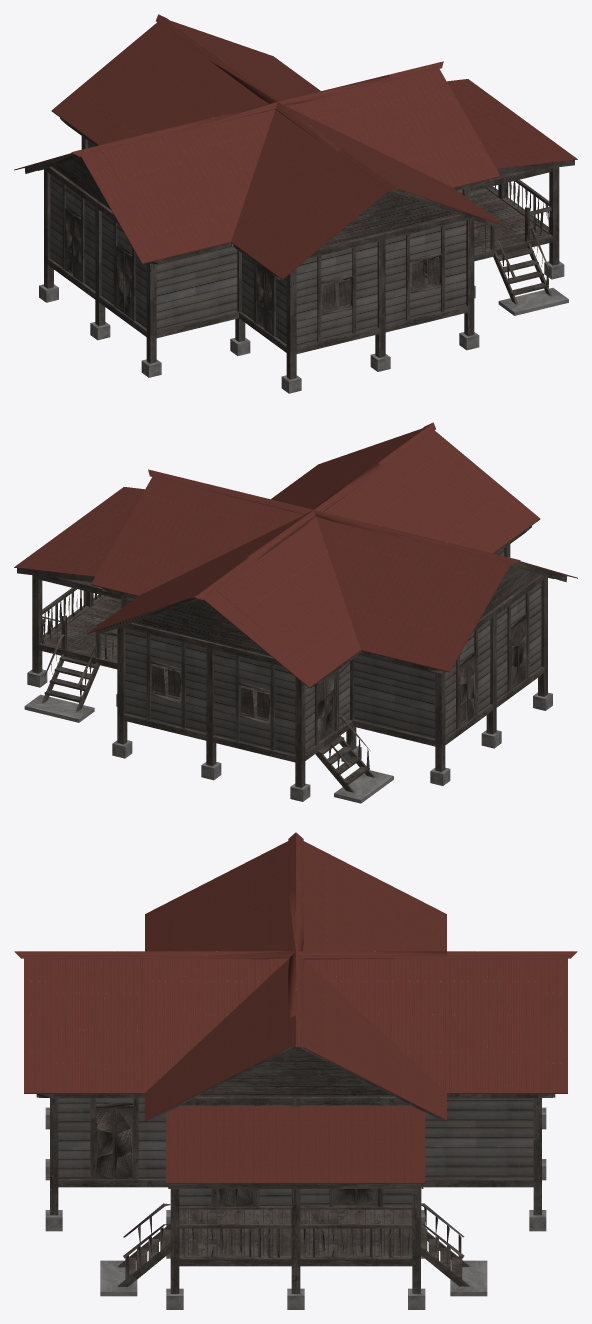
Rendered from nha-go-mien-tay.glb.
3 renders of one model, top to bottom at view 1: azimuth 30°, elevation 25°; view 2: azimuth 150°, elevation 25°; view 3: azimuth 270°, elevation 25°, orthographic. The views are drawn at different scales.
Parts seen in each view (by area): view 1: Floor.007_House_atlas_0; view 2: Floor.007_House_atlas_0; view 3: Floor.007_House_atlas_0.
Boxes of the visible parts, left/top/right/bottom form: Floor.007_House_atlas_0: left=14, top=14, right=577, bottom=393; Floor.007_House_atlas_0: left=14, top=422, right=577, bottom=803; Floor.007_House_atlas_0: left=14, top=832, right=577, bottom=1309.
Bounding box in the file's own units: 1 × 0.4039 × 0.9163.
1 material, 1 textured.
